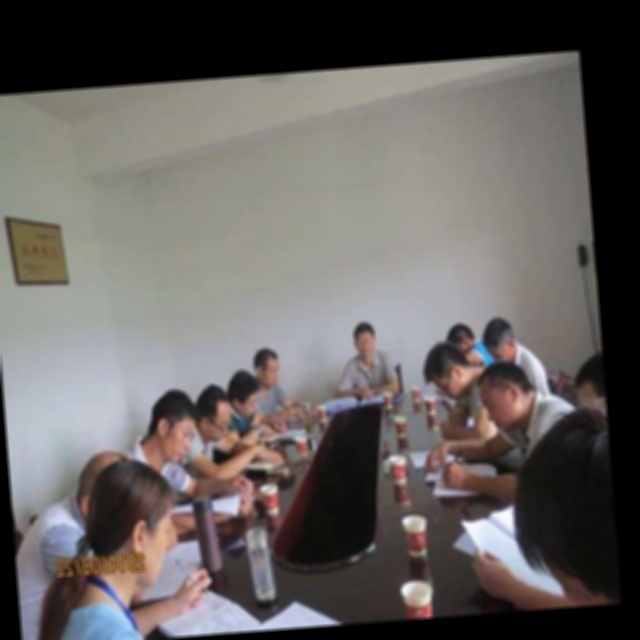Sin_Casco_Mascarrilla: (352, 320, 378, 362)
